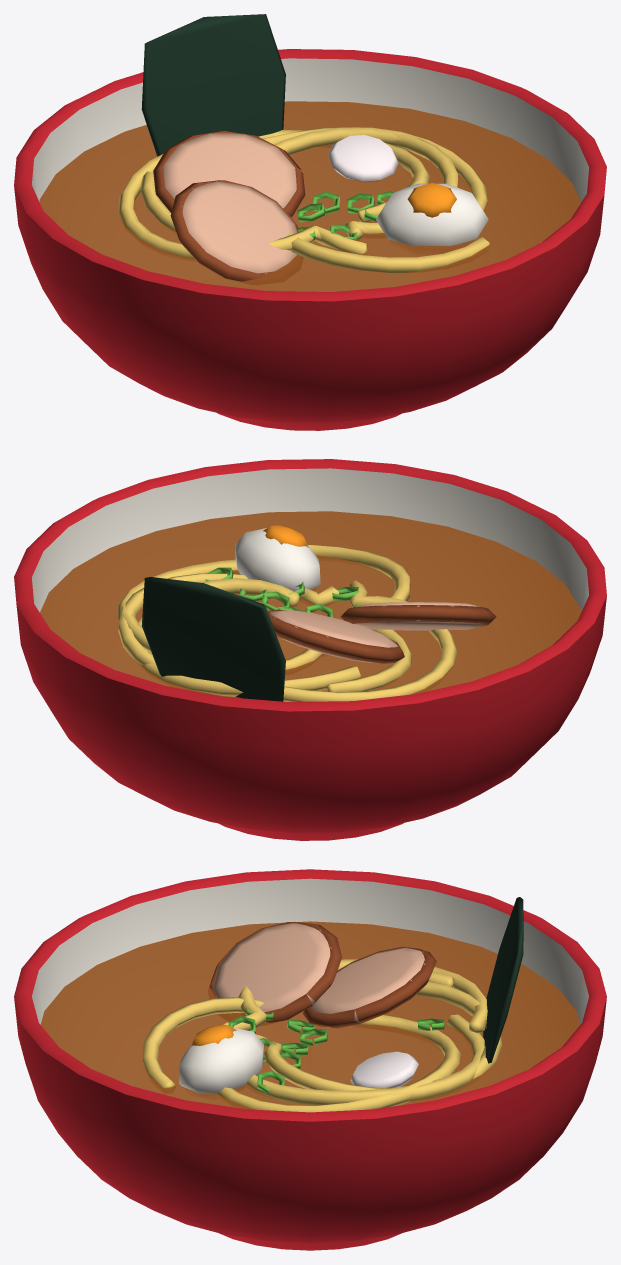
3 renders of one model, top to bottom at view 1: azimuth 30°, elevation 25°; view 2: azimuth 150°, elevation 25°; view 3: azimuth 270°, elevation 25°, orthographic.
Parts seen in each view (by area): view 1: bowl_outer, surface, bowl_inner, nori, bowl_rim, chashu (×2), noodles (×5), egg_white, chashu_rim (×2), naruto, egg_yolk; view 2: bowl_outer, surface, bowl_inner, bowl_rim, noodles (×5), nori, chashu_rim (×2), egg_white, chashu (×2), egg_yolk; view 3: bowl_outer, surface, bowl_inner, bowl_rim, noodles (×5), chashu (×2), chashu_rim (×2), egg_white, nori, naruto, egg_yolk.
Boxes of the visible parts, <box> form: bowl_outer: <box>14,186,604,430</box>; surface: <box>39,101,580,291</box>; bowl_inner: <box>32,58,588,202</box>; nori: <box>141,14,285,156</box>; bowl_rim: <box>14,49,606,301</box>; chashu (×2): <box>163,133,296,274</box>; noodles (×5): <box>118,127,489,272</box>; egg_white: <box>376,183,488,245</box>; chashu_rim (×2): <box>153,130,305,281</box>; naruto: <box>328,135,398,181</box>; egg_yolk: <box>407,183,456,217</box>; bowl_outer: <box>16,596,606,840</box>; surface: <box>40,511,581,698</box>; bowl_inner: <box>31,468,588,612</box>; bowl_rim: <box>14,459,606,711</box>; noodles (×5): <box>117,544,457,701</box>; nori: <box>141,577,285,701</box>; chashu_rim (×2): <box>268,605,496,663</box>; egg_white: <box>235,528,320,591</box>; chashu (×2): <box>270,602,485,662</box>; egg_yolk: <box>263,525,308,547</box>; bowl_outer: <box>14,997,606,1250</box>; surface: <box>40,921,580,1109</box>; bowl_inner: <box>32,878,588,1024</box>; bowl_rim: <box>14,869,606,1121</box>; noodles (×5): <box>142,959,502,1112</box>; chashu (×2): <box>212,922,425,1022</box>; chashu_rim (×2): <box>210,922,436,1028</box>; egg_white: <box>179,1027,263,1093</box>; nori: <box>483,897,523,1063</box>; naruto: <box>350,1051,418,1088</box>; egg_yolk: <box>190,1024,236,1047</box>.
Bounding box in the file's own units: 0.2 × 0.1051 × 0.2.
